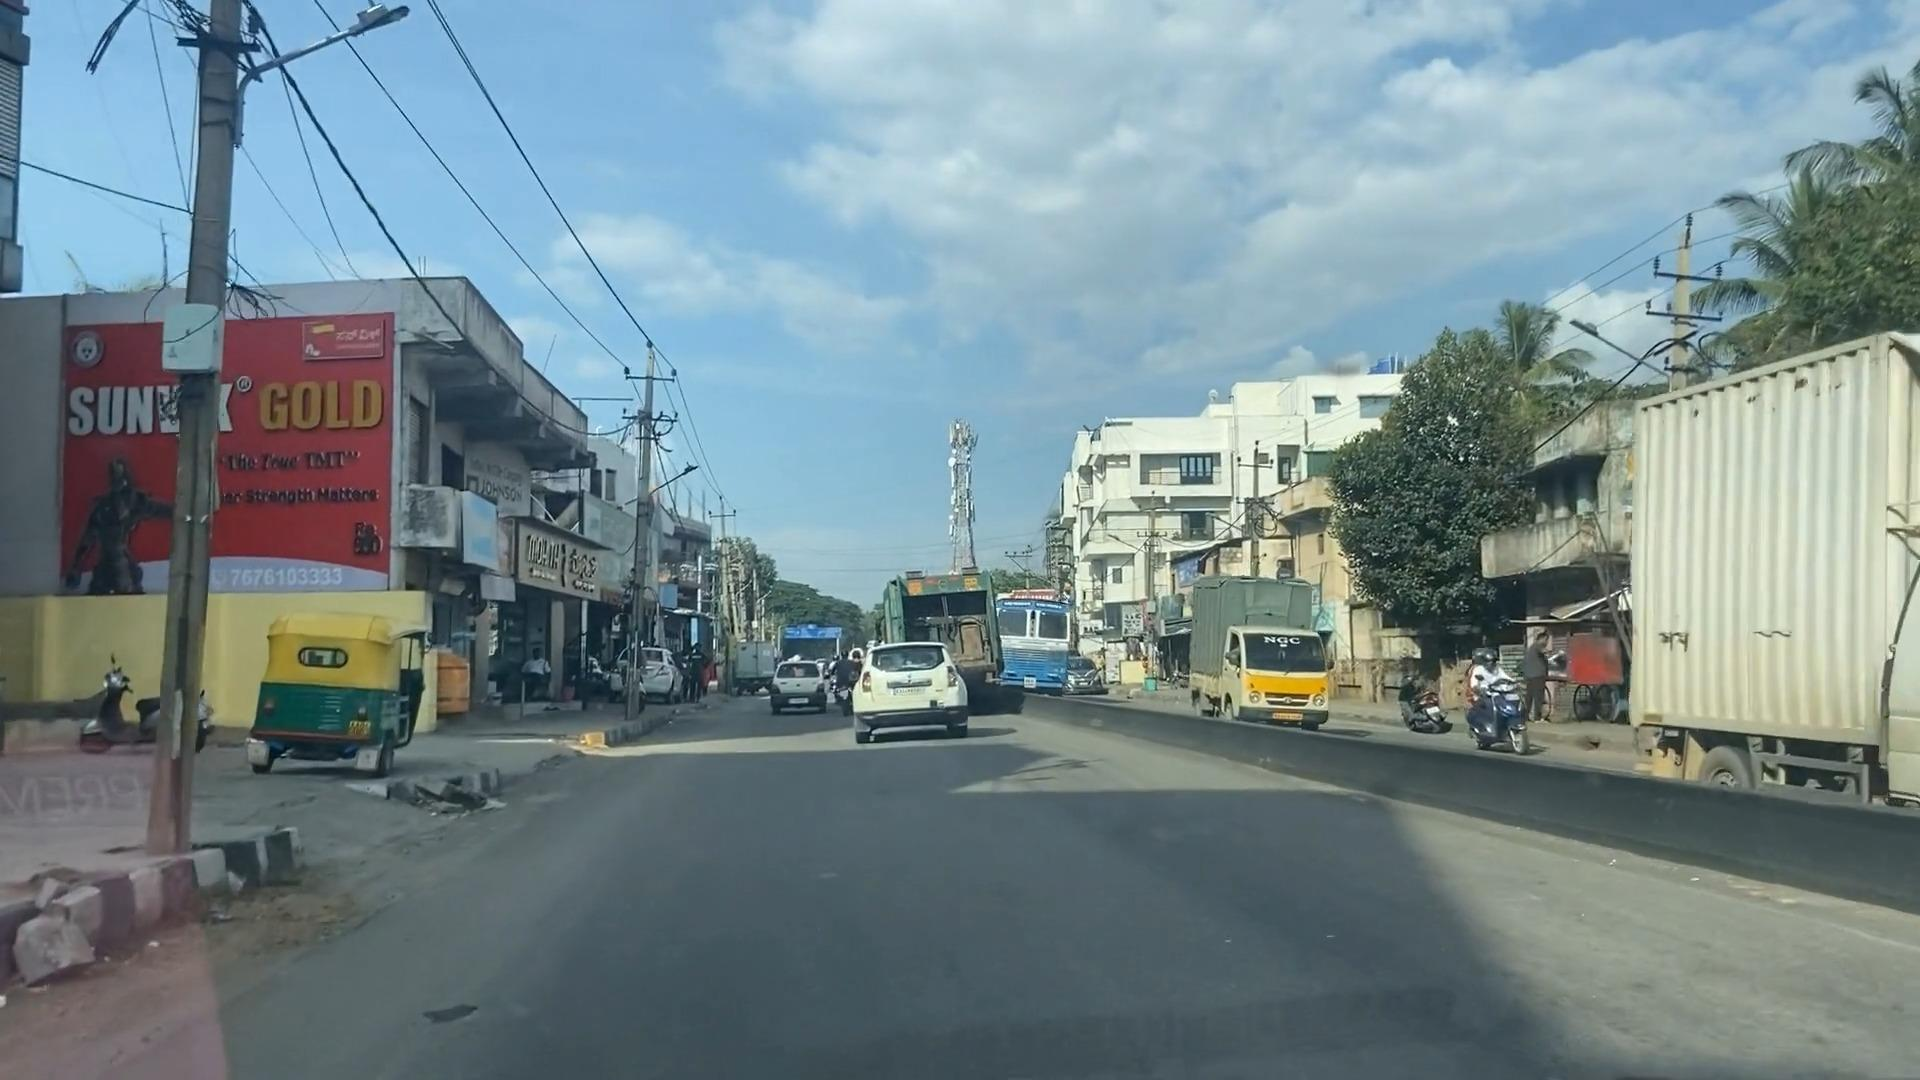LMV: (851, 636, 964, 750)
RoadDamages: (76, 873, 369, 1080)
